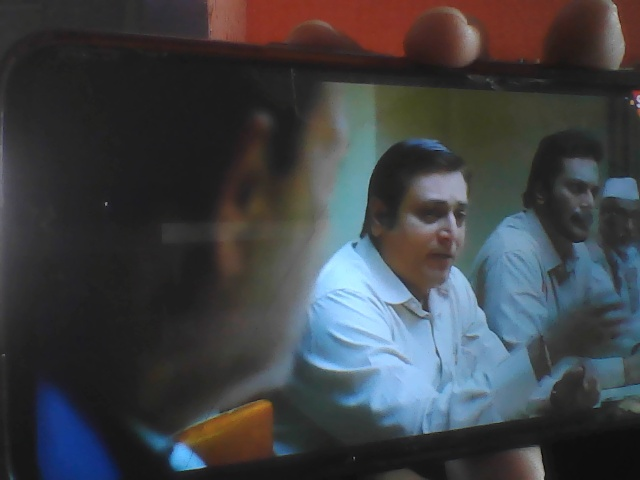fake: (374, 134, 488, 295)
